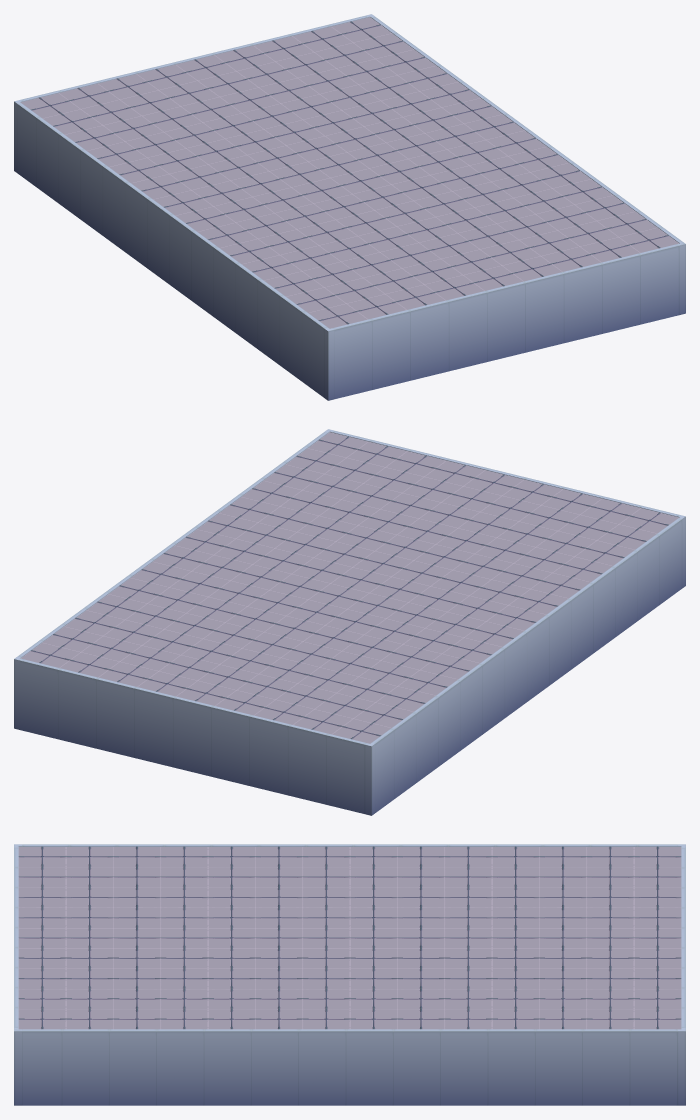
The model's file is proto_map_2f.fbx.
3 views of the same model, one above another, from view 1: azimuth 30°, elevation 25°; view 2: azimuth 150°, elevation 25°; view 3: azimuth 270°, elevation 25° (orthographic). The views are drawn at different scales.
Visible parts, largest first — view 1: celling3_low, maim_low.002, maim_low.001, maim_low.003, maim_low, wall_side_low.002; view 2: celling3_low, maim_low, maim_low.001, maim_low.003, maim_low.002, wall_side_low; view 3: celling3_low, maim_low.003, maim_low.001, maim_low.002, maim_low, wall_side_low.003, wall_side_low.001.
Boxes of the visible parts, x1,y1,x2,y2 form: celling3_low: (21, 17, 678, 328); maim_low.002: (332, 244, 679, 398); maim_low.001: (14, 103, 327, 397); maim_low.003: (372, 17, 684, 244); maim_low: (21, 15, 367, 101); wall_side_low.002: (324, 327, 334, 400); celling3_low: (21, 432, 678, 743); maim_low: (20, 659, 366, 813); maim_low.001: (372, 518, 681, 813); maim_low.003: (18, 430, 329, 657); maim_low.002: (332, 431, 679, 516); wall_side_low: (365, 742, 375, 815); celling3_low: (18, 846, 681, 1029); maim_low.003: (15, 1029, 677, 1105); maim_low.001: (22, 844, 681, 846); maim_low.002: (14, 847, 18, 1027); maim_low: (681, 848, 685, 1027); wall_side_low.003: (14, 1027, 22, 1105); wall_side_low.001: (677, 1028, 685, 1105).
Bounding box in the file's own units: 14005 × 2600 × 21300.
